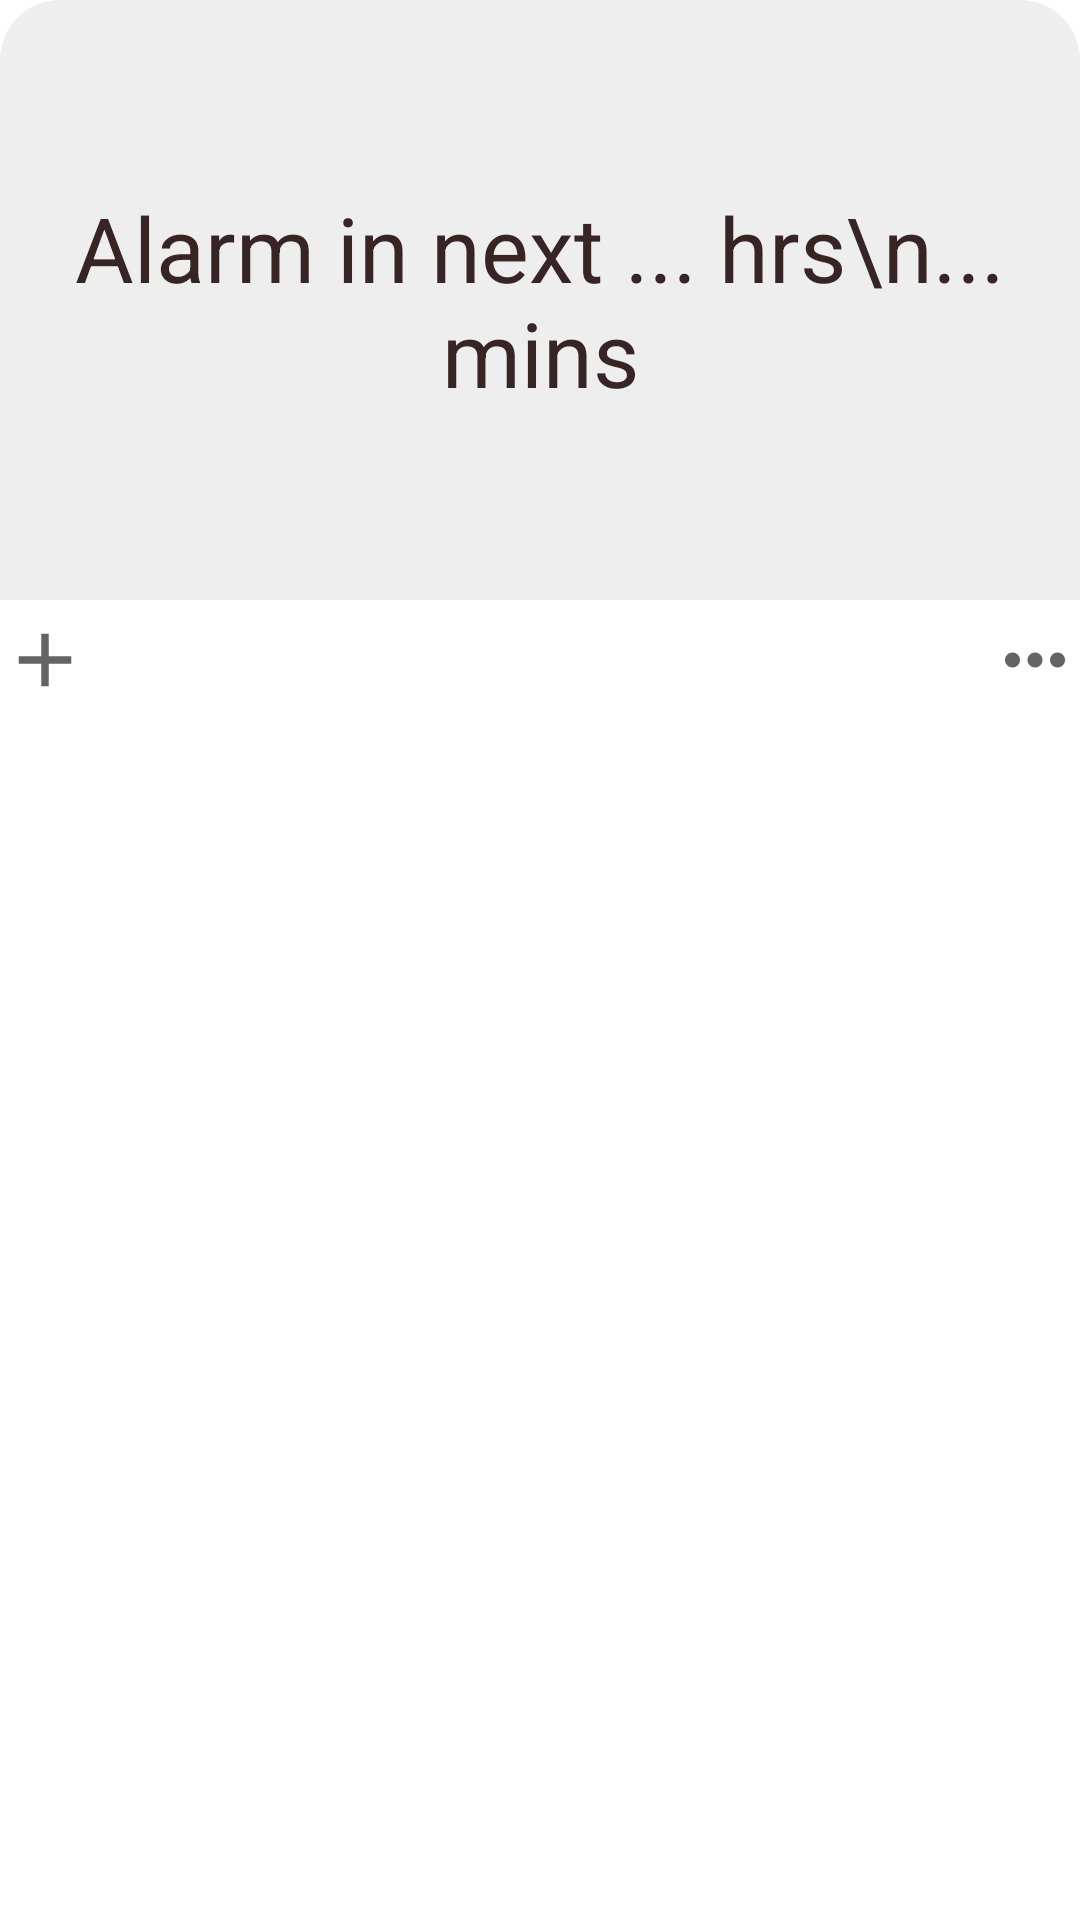

Icon bounding boxes for this 1080*1920 phone screenshot, format (x1, y1, x2, y2):
add: (18, 633, 72, 687)
menu: (1005, 652, 1065, 668)
